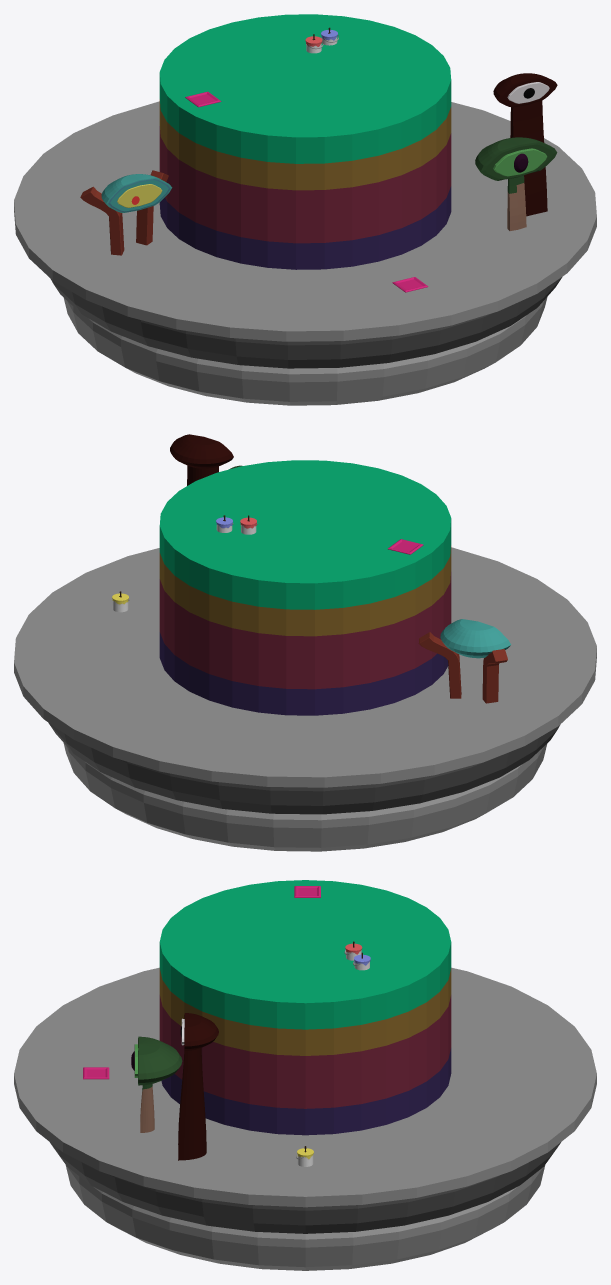
The model's file is stage_1_2_stage.fbx.
The picture shows the model from 3 angles, top to bottom: view 1: azimuth 30°, elevation 25°; view 2: azimuth 150°, elevation 25°; view 3: azimuth 270°, elevation 25°; orthographic projection.
Visible parts, largest first — view 1: 円柱, 円柱.008, 円柱.006, 円柱.009, 円柱.003, 立方体.003, 立方体.002; view 2: 円柱, 円柱.008, 円柱.006, 円柱.003, 立方体.002, 立方体.003; view 3: 円柱, 円柱.008, 円柱.006, 円柱.009.
Boxes of the visible parts, box(x1,y1,x2,y2) form: 円柱: box(14, 101, 596, 405); 円柱.008: box(159, 14, 451, 269); 円柱.006: box(493, 73, 557, 216); 円柱.009: box(475, 137, 557, 230); 円柱.003: box(101, 174, 172, 212); 立方体.003: box(80, 186, 124, 255); 立方体.002: box(136, 170, 168, 245); 円柱: box(14, 547, 596, 851); 円柱.008: box(159, 460, 451, 715); 円柱.006: box(170, 434, 233, 485); 円柱.003: box(440, 619, 511, 658); 立方体.002: box(418, 632, 461, 698); 立方体.003: box(482, 649, 507, 703); 円柱: box(14, 967, 596, 1270); 円柱.008: box(159, 880, 451, 1135); 円柱.006: box(178, 1013, 218, 1160); 円柱.009: box(131, 1036, 182, 1132).
Bounding box in the file's own units: 2000 × 989 × 2000.
